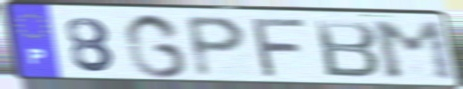8: (65, 16, 117, 74)
B: (312, 19, 384, 81)
F: (251, 17, 312, 80)
G: (121, 12, 191, 80)
M: (368, 20, 461, 83)
P: (183, 13, 251, 80)
